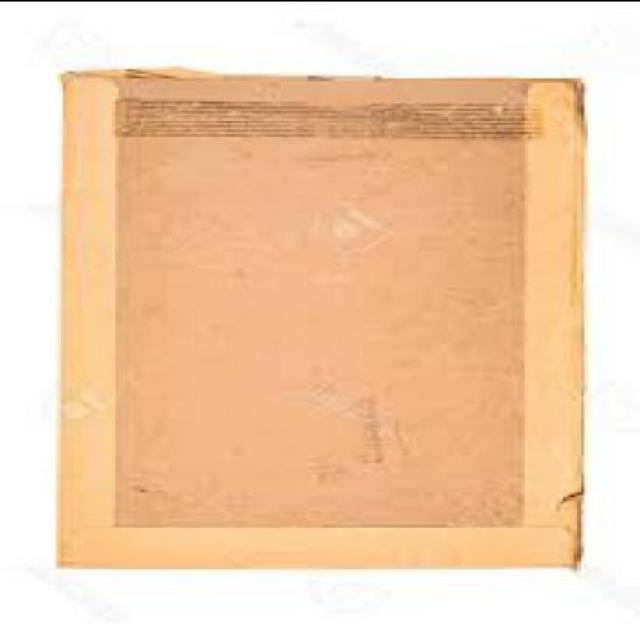CARDBOARD: (52, 68, 580, 569)
